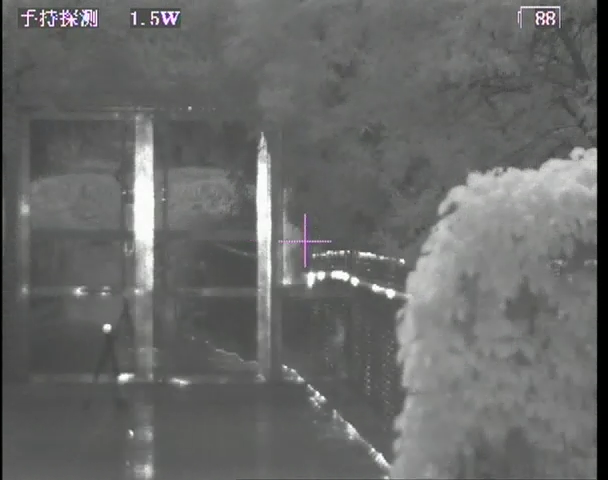my: (101, 323, 114, 335)
